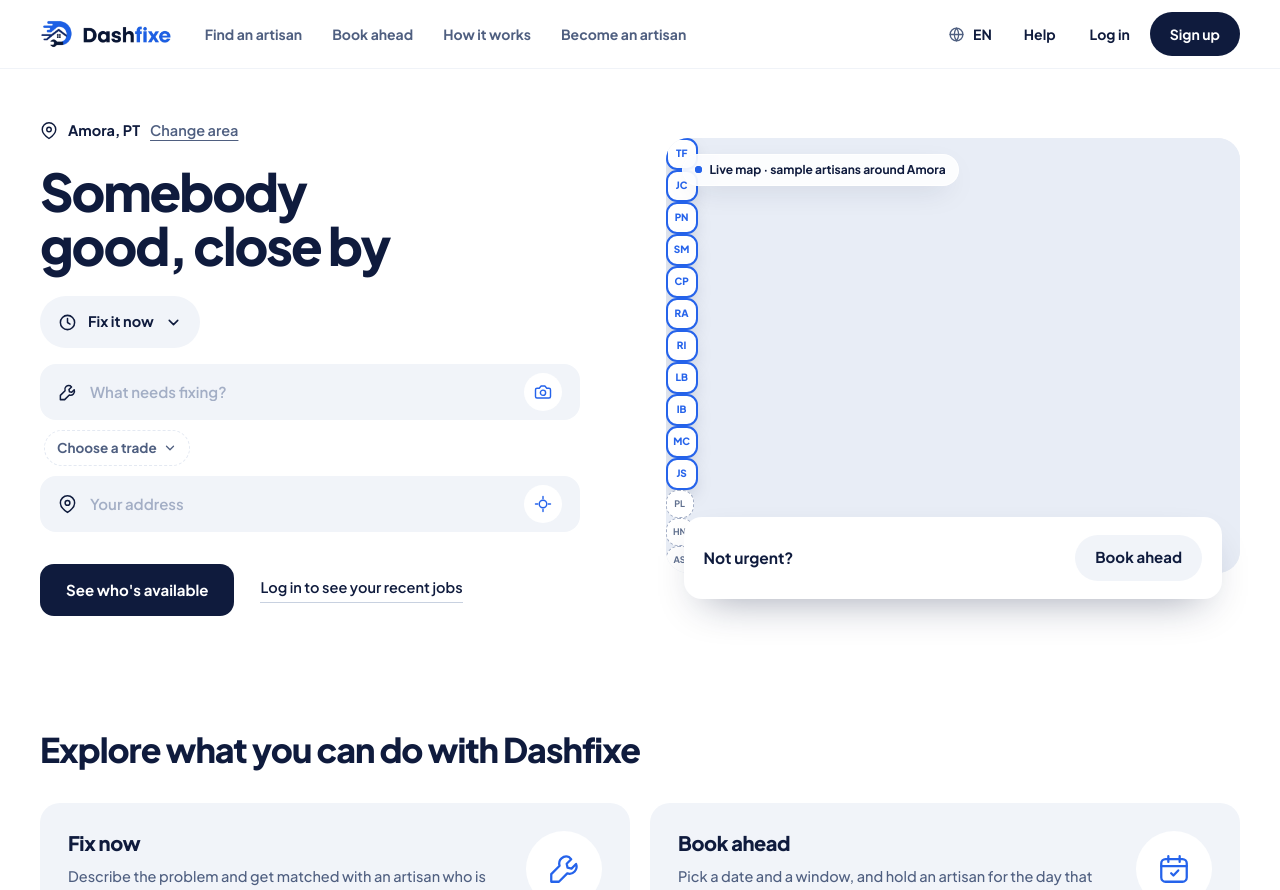
Test: HomePage › switches the whole page to Portuguese and remembers the choice
The width and height of the screenshot is (1280, 890).
Step 1. Click the button with aria-label "Language" → [970, 34], box [936,12,1004,56]
(page scrolled)
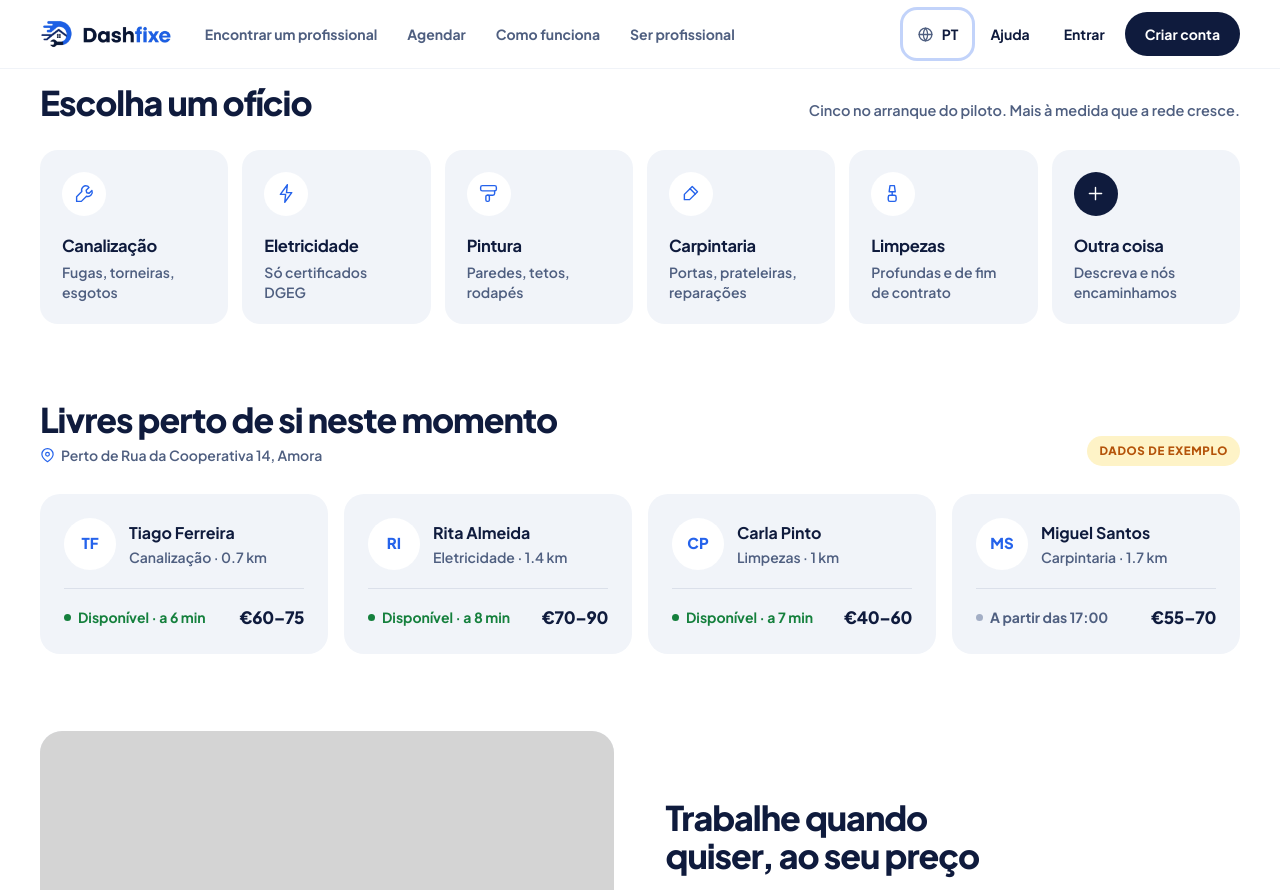
Expected: the heading "Escolha um ofício" is shown, [40,84,312,122]
Expected: the text "Dados de exemplo" is shown, [1087,436,1240,466]
